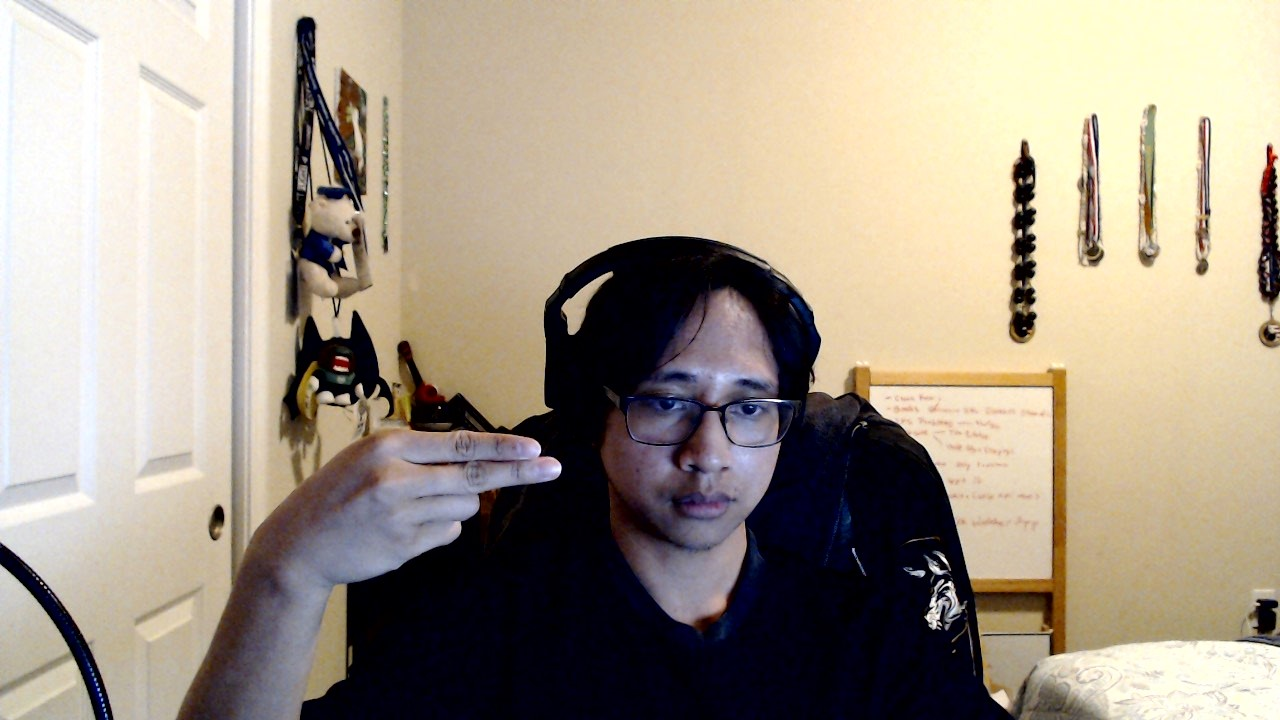h: (230, 424, 563, 587)
